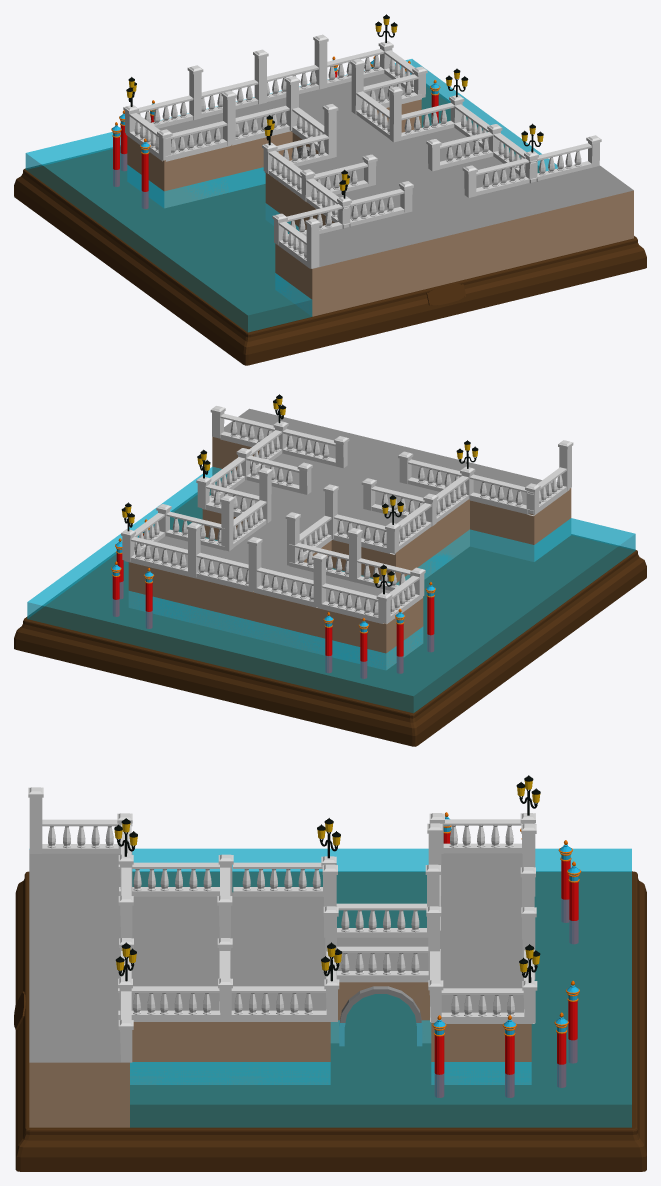
Rendered from lvl2.FBX.
The picture shows the model from 3 angles, top to bottom: view 1: azimuth 30°, elevation 25°; view 2: azimuth 150°, elevation 25°; view 3: azimuth 270°, elevation 25°; orthographic projection. The views are drawn at different scales.
Parts seen in each view (by area): view 1: Object138; view 2: Object138; view 3: Object138.
Boxes of the visible parts, x1=… form: Object138: x1=14, y1=14, x2=646, y2=365; Object138: x1=14, y1=394, x2=646, y2=746; Object138: x1=14, y1=775, x2=646, y2=1171.
Size of the model in its own units: 349 by 110 by 350.
